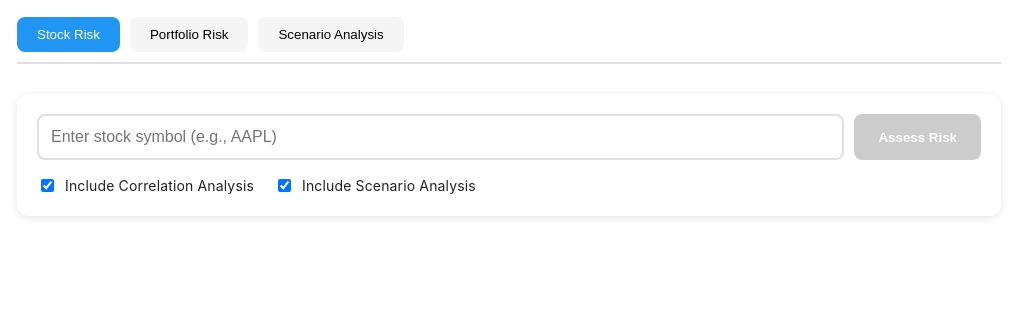
Test case: RiskAssessment Component › Portfolio Risk Assessment Mode › should render portfolio risk assessment interface
Click the button "Portfolio Risk": (189, 34) [130, 17, 248, 52]
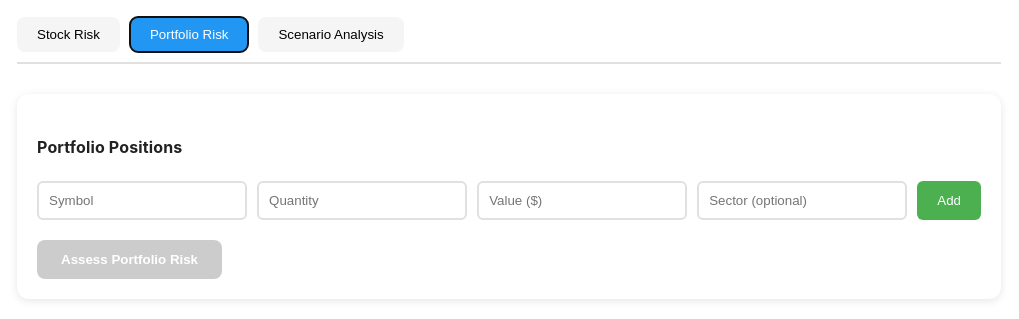
expect the heading "Portfolio Positions" is shown: met, box [37, 137, 182, 157]
expect the number field with placeholder "Quantity" is shown: met, box [257, 180, 467, 220]
expect the number field with placeholder "Value ($)" is shown: met, box [477, 180, 687, 220]
